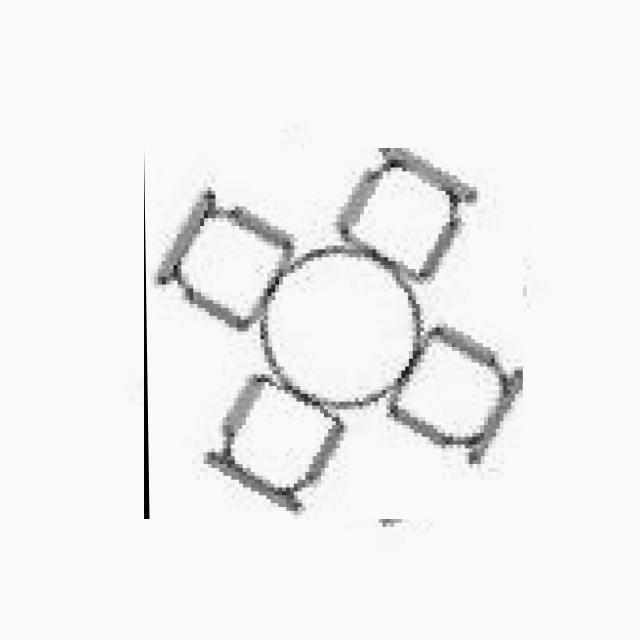table: (144, 148, 523, 519)
